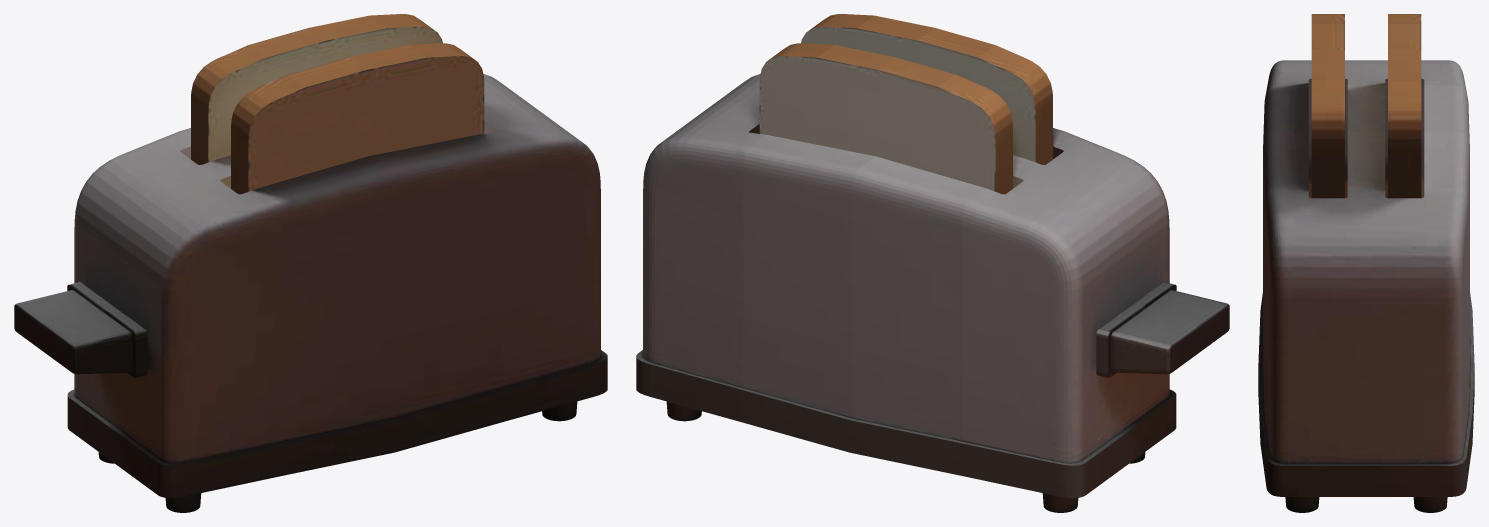
The model's file is toaster-transformed.glb.
3 renders of one model, left to right at view 1: azimuth 30°, elevation 25°; view 2: azimuth 150°, elevation 25°; view 3: azimuth 270°, elevation 25°, orthographic. The views are drawn at different scales.
Visible parts, largest first — view 1: toaster; view 2: toaster; view 3: toaster.
Boxes of the visible parts, x1,y1,x2,y2 form: toaster: [14, 14, 607, 512]; toaster: [636, 14, 1229, 512]; toaster: [1258, 14, 1474, 512].
Bounding box in the file's own units: 2.74 × 1.95 × 1.04.
Materials: 4 (4 with a texture image).
